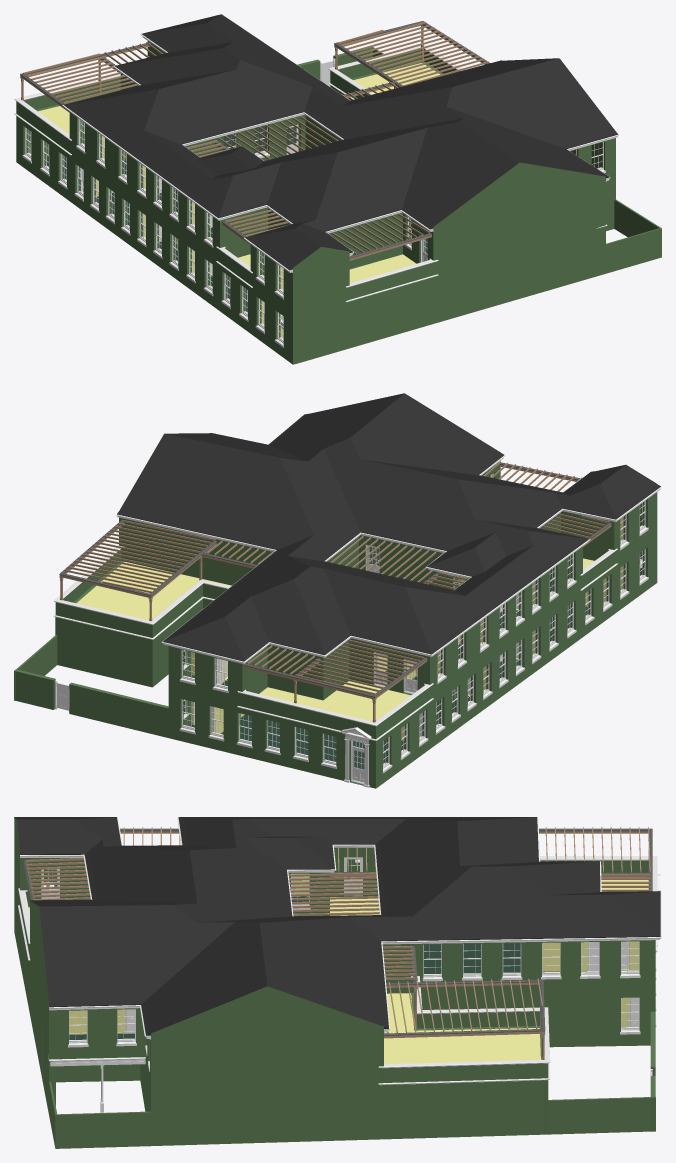
Rendered from 3m.dom.dae.
3 views of the same model, one above another, from view 1: azimuth 30°, elevation 25°; view 2: azimuth 150°, elevation 25°; view 3: azimuth 270°, elevation 25° (orthographic). The views are drawn at different scales.
Visible parts, largest first — view 1: Mesh408, Mesh409, Mesh411, Mesh405, Mesh598, Mesh195, Mesh412, Mesh194, Mesh406, Mesh378, Mesh416, Mesh347 (+47 smaller); view 2: Mesh408, Mesh409, Mesh405, Mesh411, Mesh412, Mesh407, Mesh107, Mesh378, Mesh571, Mesh413, Mesh410, Mesh88 (+50 smaller); view 3: Mesh408, Mesh407, Mesh409, Mesh411, Mesh405, Mesh198, Mesh602, Mesh196, Mesh413, Mesh412, Mesh197, Mesh603 (+58 smaller).
Boxes of the visible parts, box(x1,y1,x2,y2) form: Mesh408: box(338, 58, 613, 146); Mesh409: box(341, 114, 604, 226); Mesh411: box(70, 52, 341, 152); Mesh405: box(260, 126, 427, 229); Mesh598: box(438, 194, 546, 273); Mesh195: box(437, 243, 544, 322); Mesh412: box(121, 37, 338, 113); Mesh194: box(346, 276, 437, 349); Mesh406: box(268, 100, 615, 221); Mesh378: box(337, 21, 488, 86); Mesh416: box(136, 130, 258, 213); Mesh347: box(543, 226, 605, 291); Mesh408: box(119, 433, 344, 549); Mesh409: box(271, 393, 500, 521); Mesh405: box(327, 454, 560, 533); Mesh411: box(248, 556, 496, 650); Mesh412: box(224, 556, 348, 650); Mesh407: box(178, 399, 380, 550); Mesh107: box(55, 617, 152, 687); Mesh378: box(64, 520, 215, 593); Mesh571: box(117, 484, 660, 661); Mesh413: box(169, 507, 358, 648); Mesh410: box(354, 515, 548, 556); Mesh88: box(76, 562, 213, 620); Mesh408: box(146, 917, 383, 1033); Mesh407: box(35, 917, 380, 1003); Mesh409: box(30, 900, 238, 1002); Mesh411: box(380, 817, 536, 935); Mesh405: box(90, 846, 282, 1000); Mesh198: box(379, 1080, 543, 1139); Mesh602: box(157, 1029, 295, 1089); Mesh196: box(157, 1085, 295, 1145); Mesh413: box(33, 912, 655, 941); Mesh412: box(382, 862, 595, 915); Mesh197: box(296, 1083, 378, 1141); Mesh603: box(296, 1027, 378, 1085).
Size of the model in its own units: 25.3 by 31.3 by 8.93.
